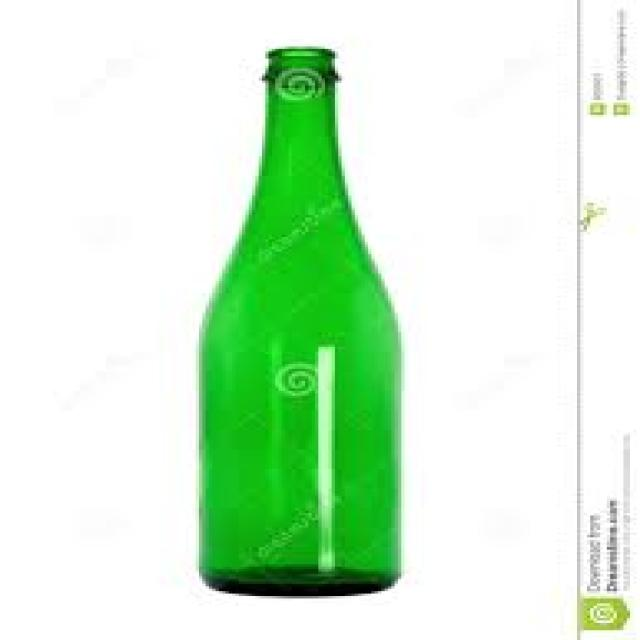glass: (196, 47, 398, 594)
